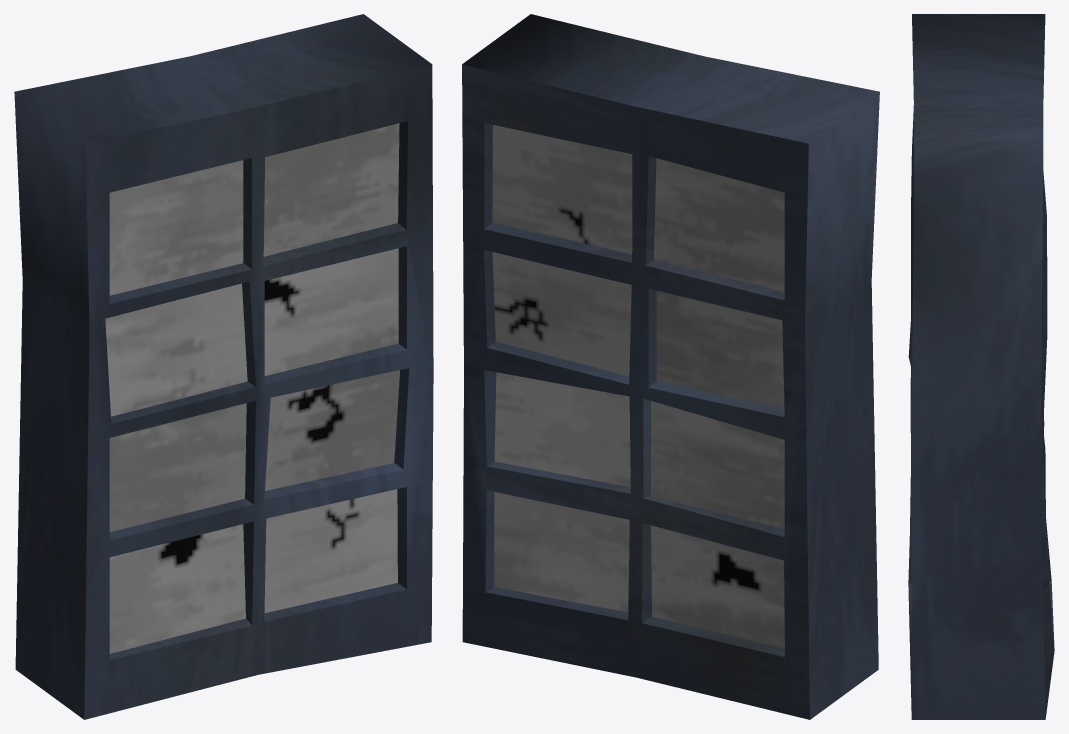
The model's file is propWindow.fbx.
3 views of the same model, side by side, from view 1: azimuth 30°, elevation 25°; view 2: azimuth 150°, elevation 25°; view 3: azimuth 270°, elevation 25° (orthographic). The views are drawn at different scales.
Visible parts, largest first — view 1: window; view 2: window; view 3: window.
Boxes of the visible parts, x1,y1,x2,y2 form: window: (14, 14, 433, 719); window: (462, 14, 879, 719); window: (908, 14, 1054, 719).
Bounding box in the file's own units: 1.37 × 2.19 × 0.5296.
